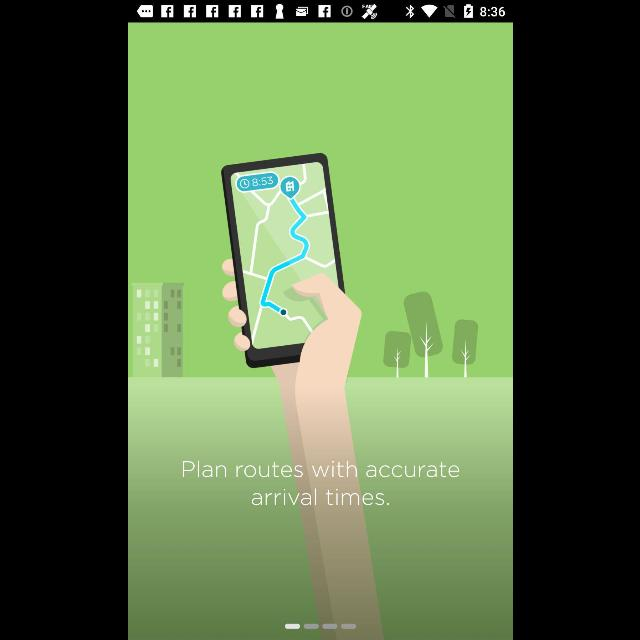backgroundimage: (128, 22, 512, 640)
pageindicator: (284, 623, 356, 629)
text: (182, 460, 458, 506)
uppertaskbar: (128, 1, 512, 23)
